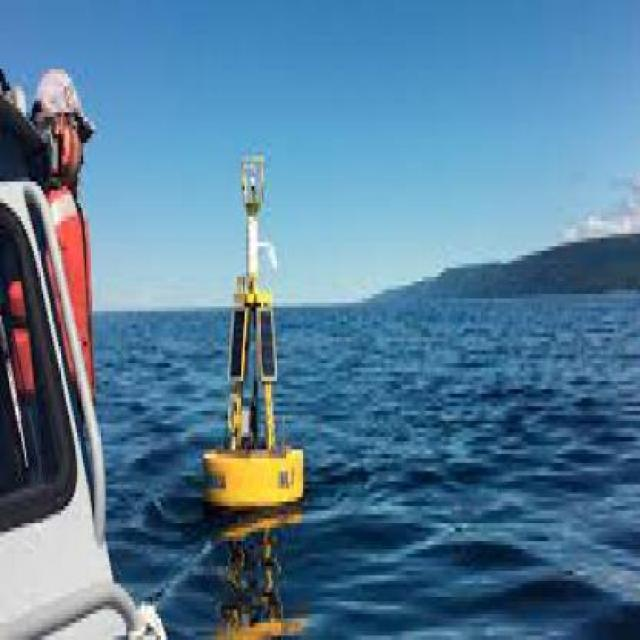buoy: (183, 130, 314, 529)
